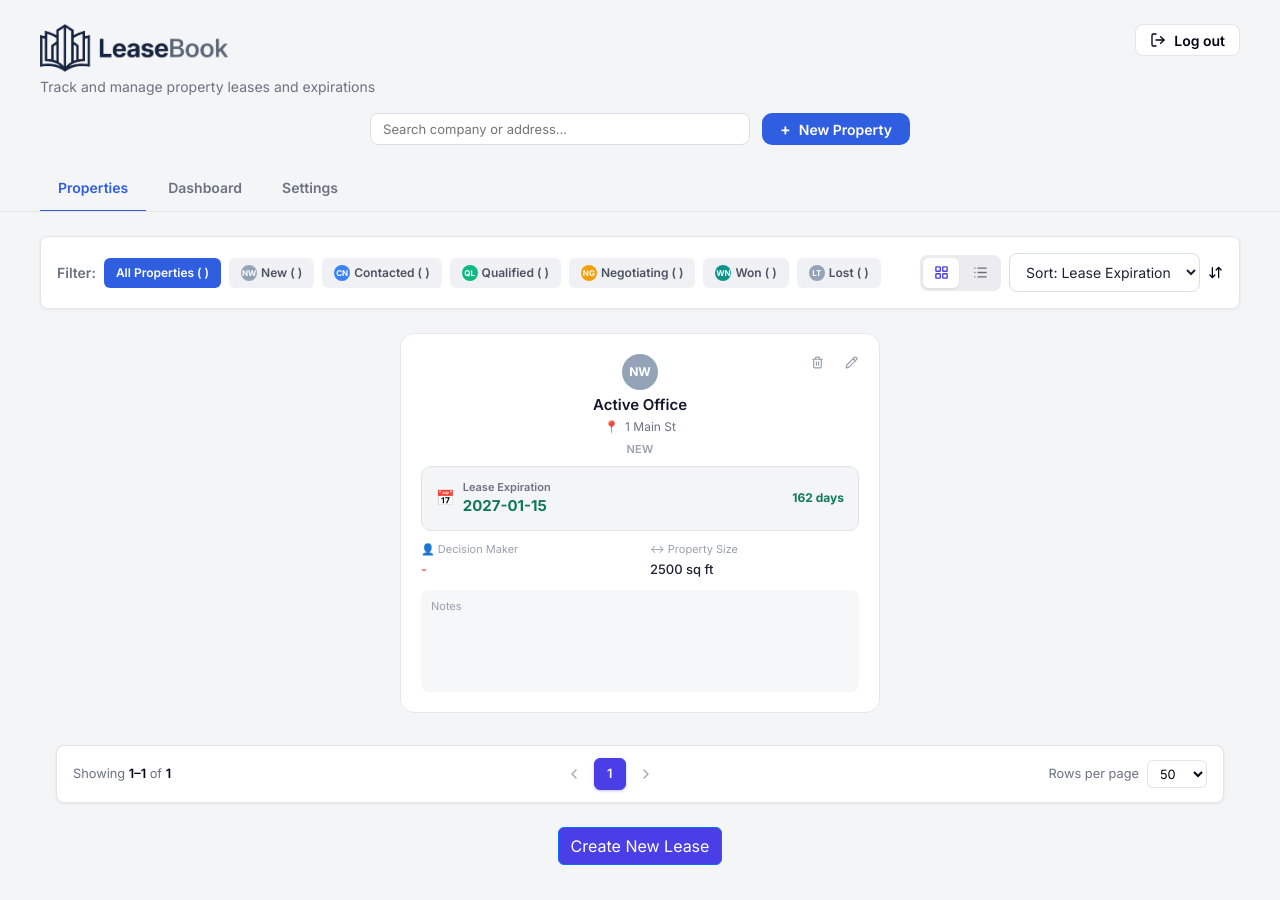
Test: App list empty states › shows an in-grid empty message for zero-result filters
Check: the text "Active Office" is shown, box [593,394,687,416]
Click the button "CN Contacted ( )" at (382, 272), box [322,258,442,288]
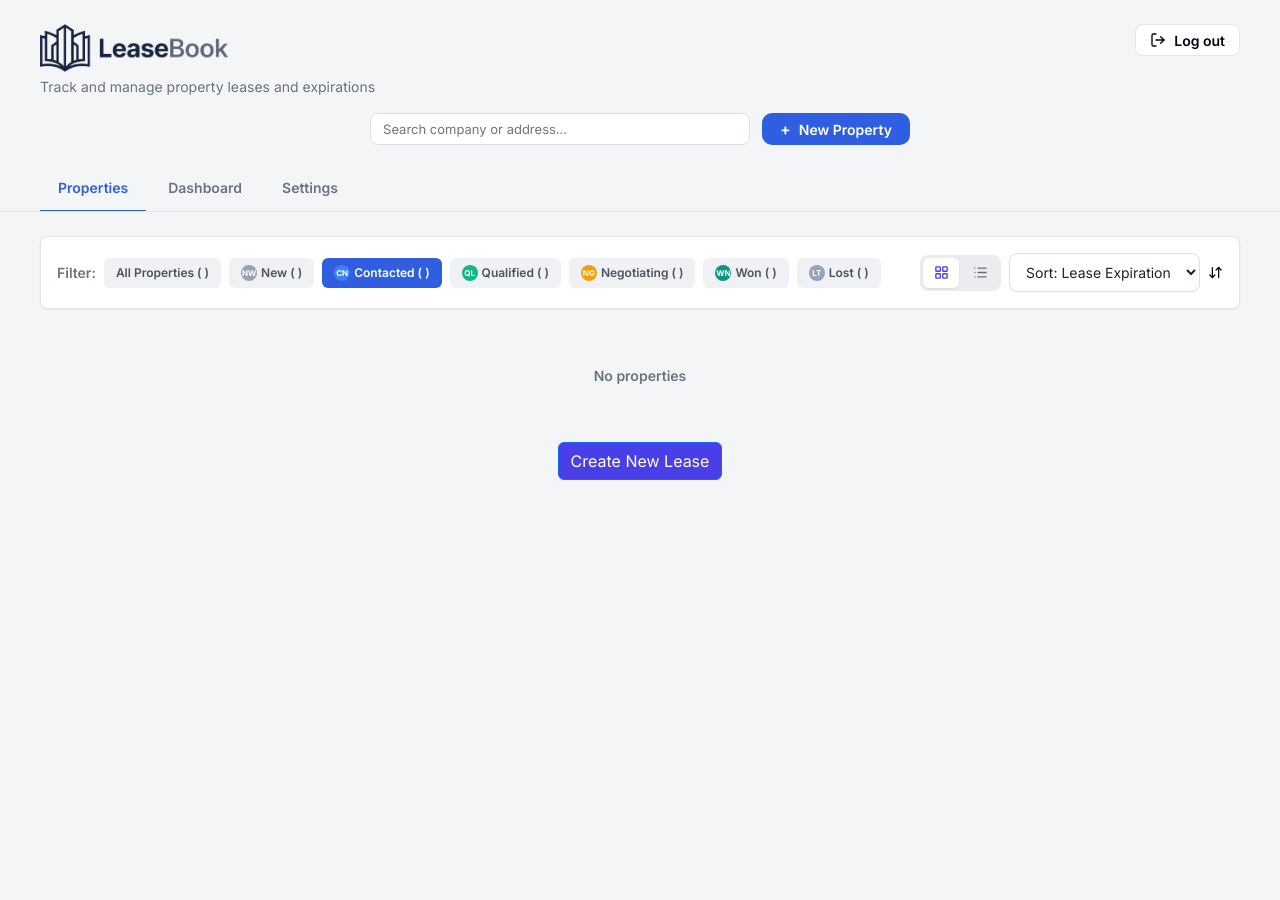
Check: the button "All Properties ( )" is shown, box [104,258,221,288]
Check: the text "No properties" is shown, box [594,367,686,384]
